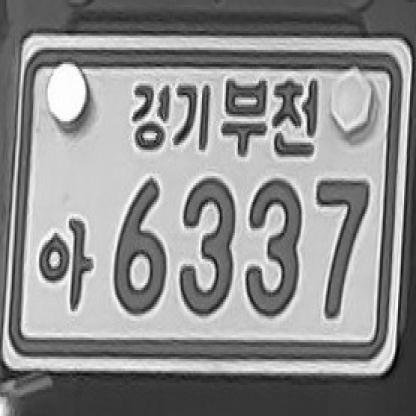bnum: (0, 22, 414, 383)
